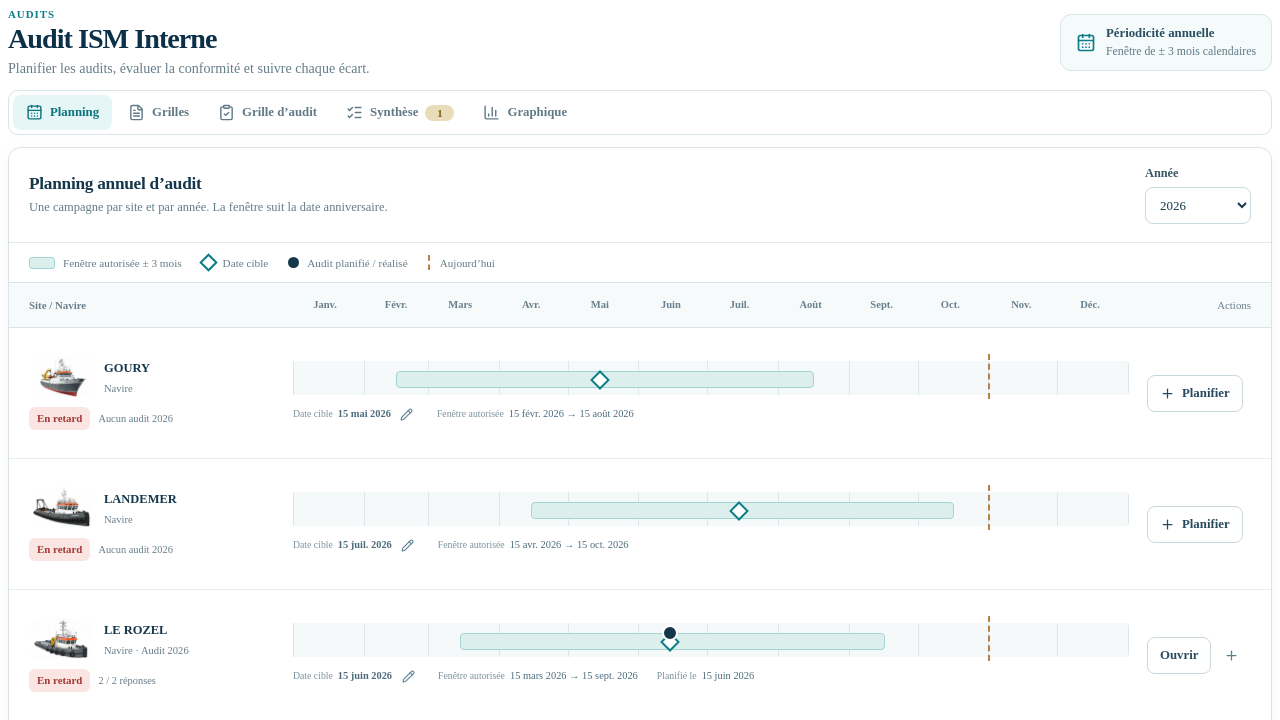
Scenario: InternalAuditsPage › keeps a model available if its deletion fails
The image size is (1280, 720).
Expected: the heading "Audit ISM Interne" is shown, [8, 23, 216, 54]
Click the button "Grilles" at point(159, 112), box [115, 95, 202, 130]
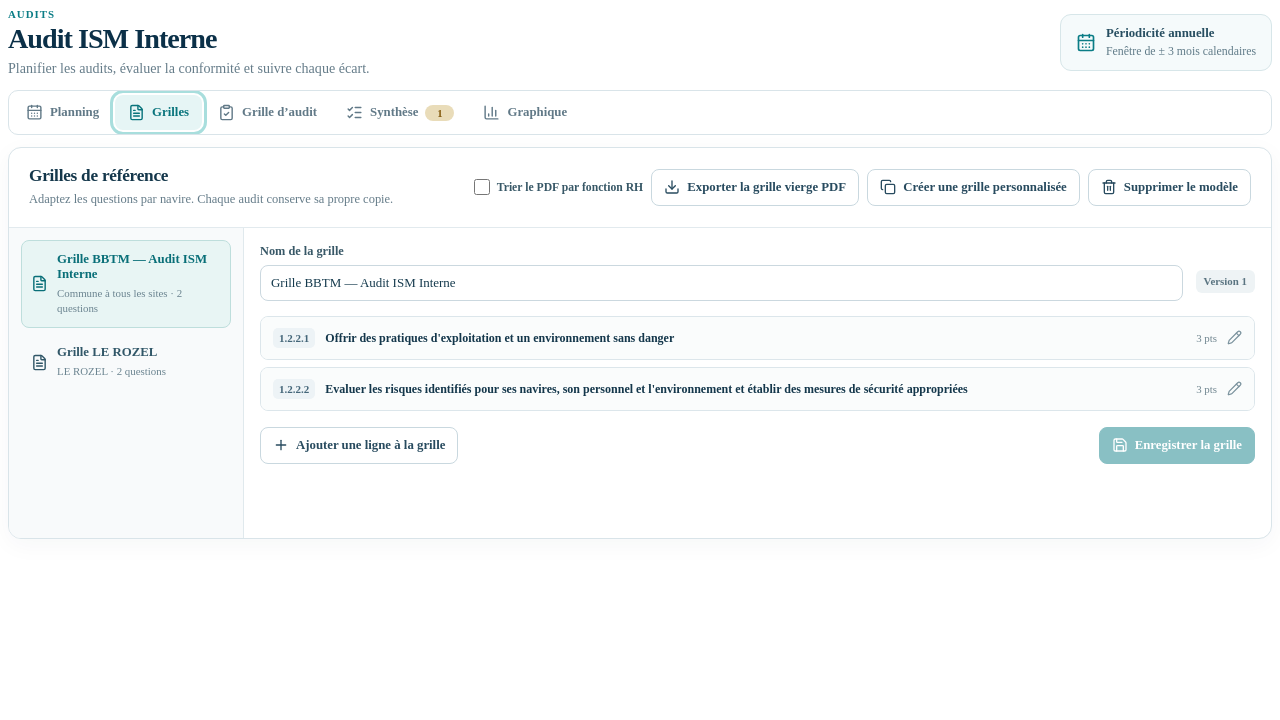
Click the button "Supprimer le modèle" at point(1169, 187), box [1088, 169, 1251, 206]
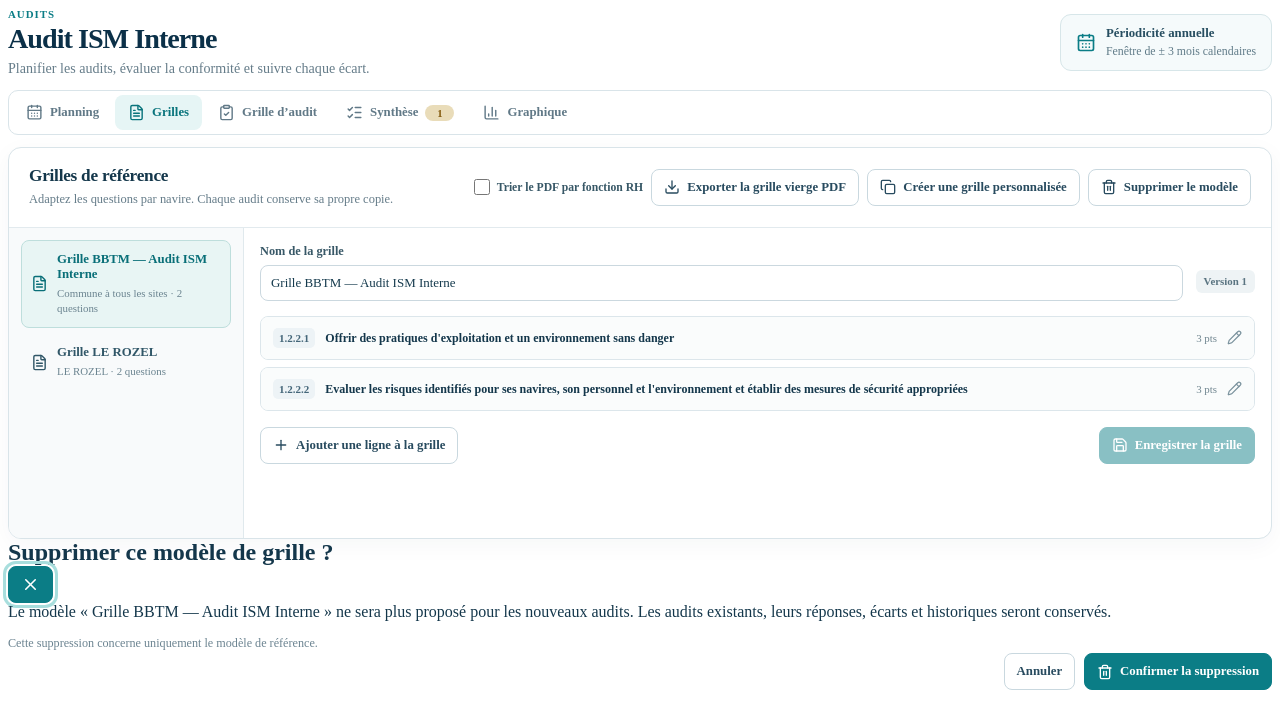
Click the button "Confirmer la suppression" at point(1178, 672), box [1084, 653, 1272, 690]
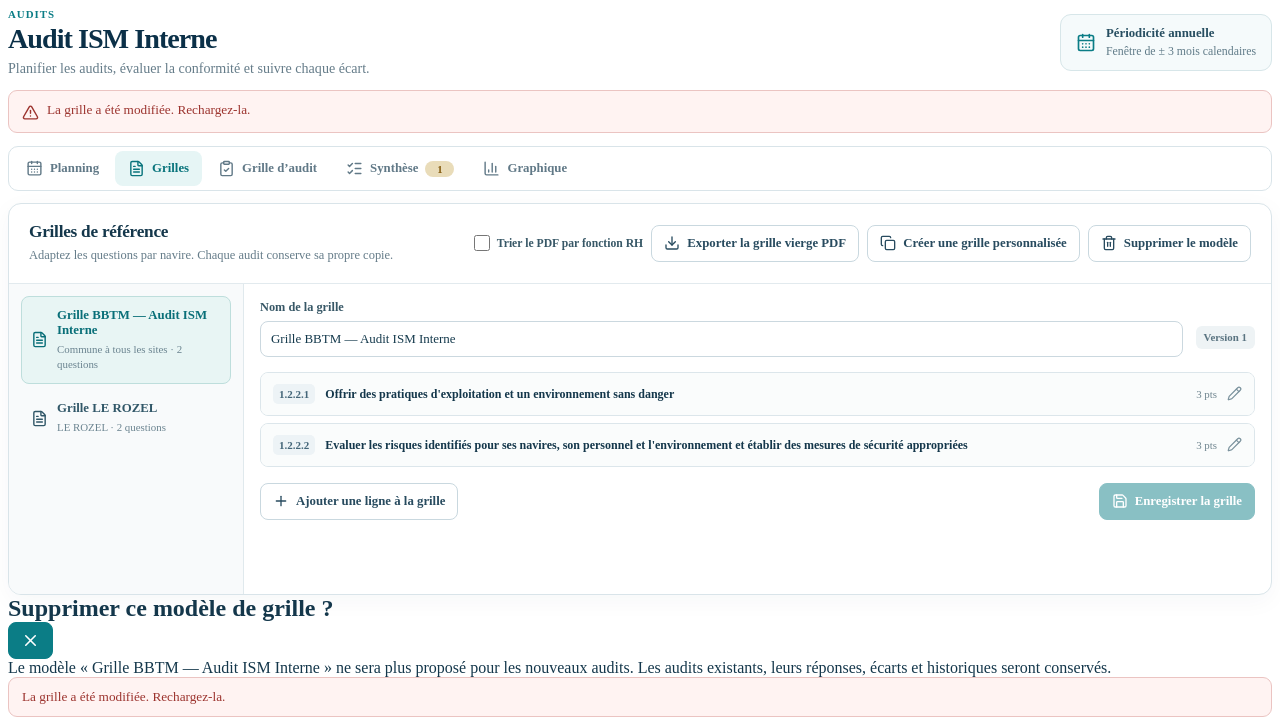
Result: the message "La grille a été modifiée. Rechargez-la." below "Supprimer ce modèle de grille ?" is shown at [22, 689, 225, 704]
